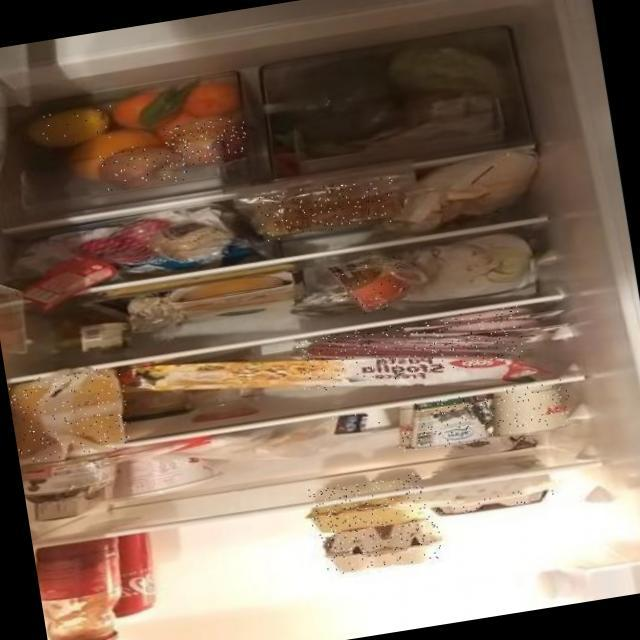Carne cerdo: (295, 304, 527, 393)
Huevos: (306, 471, 430, 539), (318, 519, 443, 576), (434, 485, 554, 516)
Manzana: (98, 138, 188, 194), (162, 113, 250, 167)
Queso: (6, 364, 134, 464), (256, 174, 398, 241), (333, 245, 410, 318)
Yogur: (392, 391, 490, 453), (482, 376, 573, 438), (331, 401, 418, 439)
